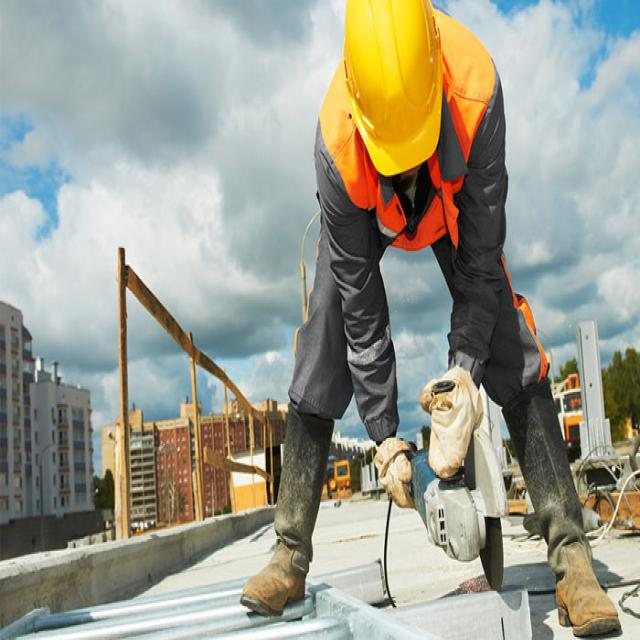shoes: (549, 544, 623, 639), (238, 536, 314, 622)
